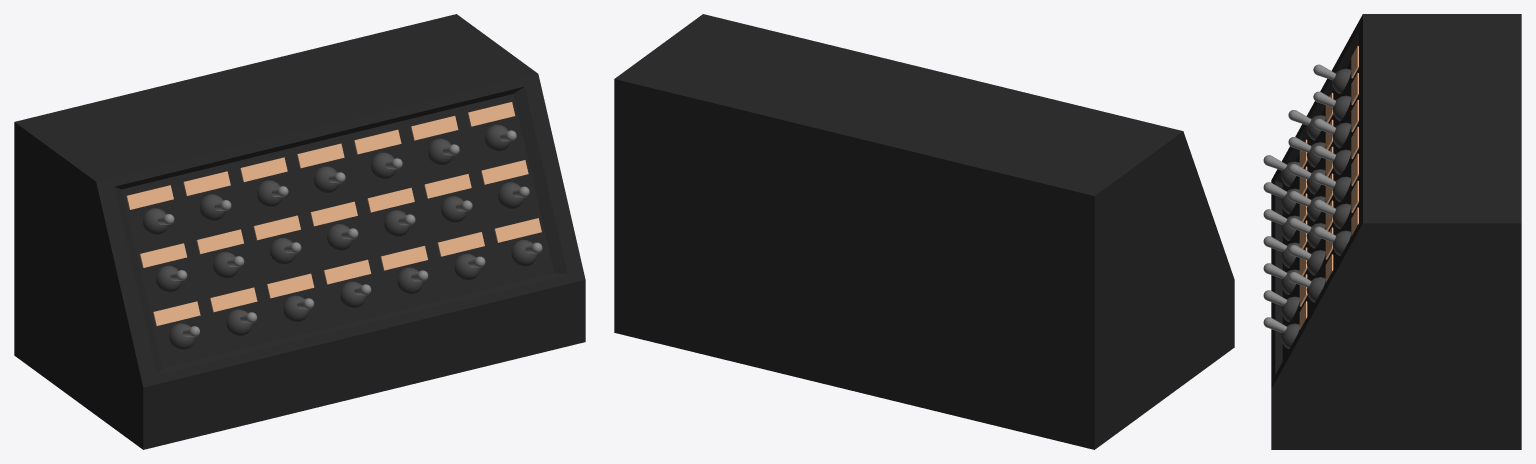
Rendered from Switch Board.fbx.
The picture shows the model from 3 angles, left to right: view 1: azimuth 30°, elevation 25°; view 2: azimuth 150°, elevation 25°; view 3: azimuth 270°, elevation 25°; orthographic projection. The views are drawn at different scales.
Visible parts, largest first — view 1: Switch Board, Cube.002, Switch Base, Switch; view 2: Switch Board; view 3: Switch Board, Switch Base, Switch, Cube.002.
Boxes of the visible parts, box(x1,y1,x2,y2) form: Switch Board: box(14, 14, 585, 449); Cube.002: box(126, 102, 541, 326); Switch Base: box(143, 124, 537, 350); Switch: box(157, 130, 542, 337); Switch Board: box(614, 14, 1234, 449); Switch Board: box(1271, 14, 1521, 449); Switch Base: box(1281, 68, 1351, 348); Switch: box(1263, 64, 1335, 332); Cube.002: box(1299, 46, 1358, 329).
Bounding box in the file's own units: 159 × 80.46 × 83.
